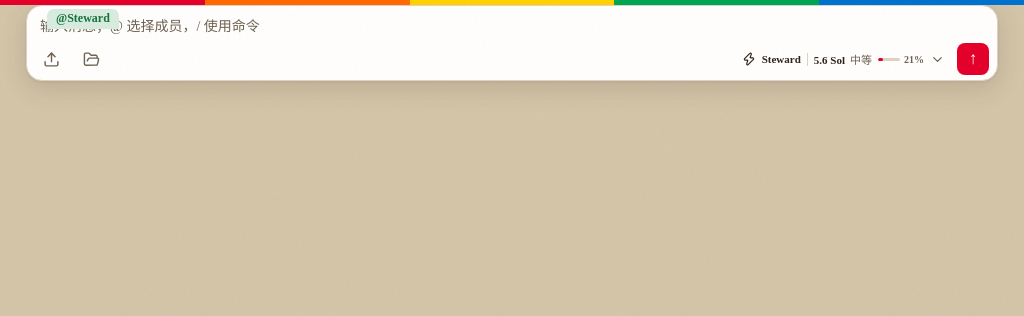
Model/Effort 选择器（渲染 Composer 内的 ModelSelector） › 在常驻入口与展开面板显示当前 session context 真值
Check: the text "21%" is shown, box [904, 54, 924, 64]
Click the button with aria-label "Steward，模型 5.6 Sol": {"x": 843, "y": 59} [734, 44, 953, 74]
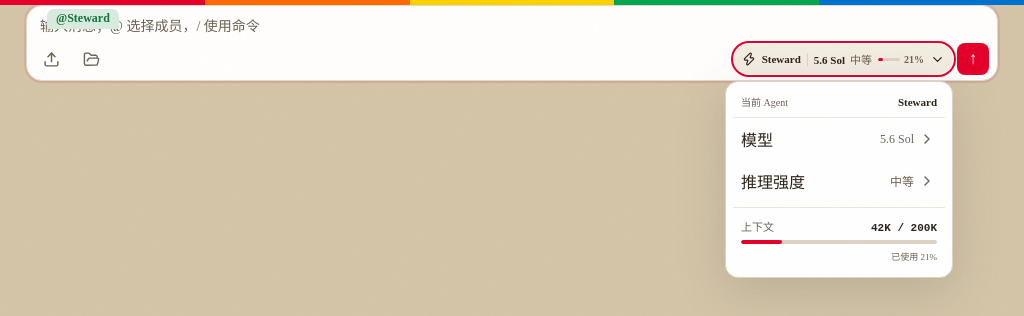
Check: the element named "上下文用量 21%" is shown, box [733, 207, 945, 270]
Check: the text "42K / 200K" is shown, box [871, 222, 937, 234]
